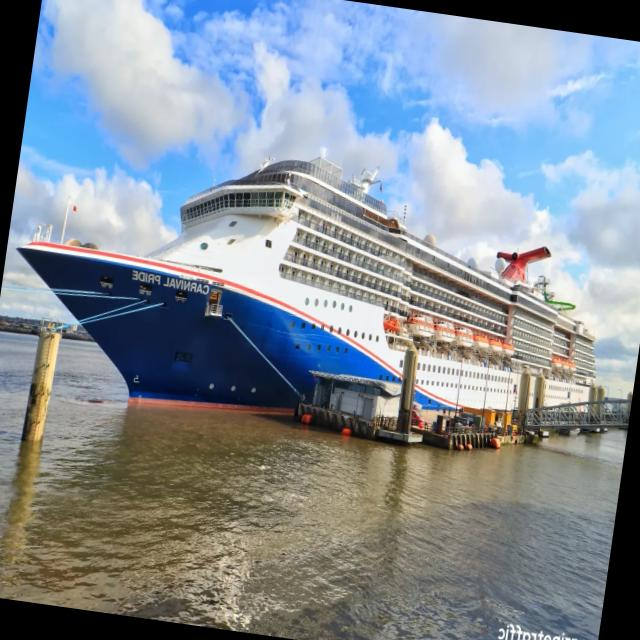Cruise: (16, 154, 595, 413)
